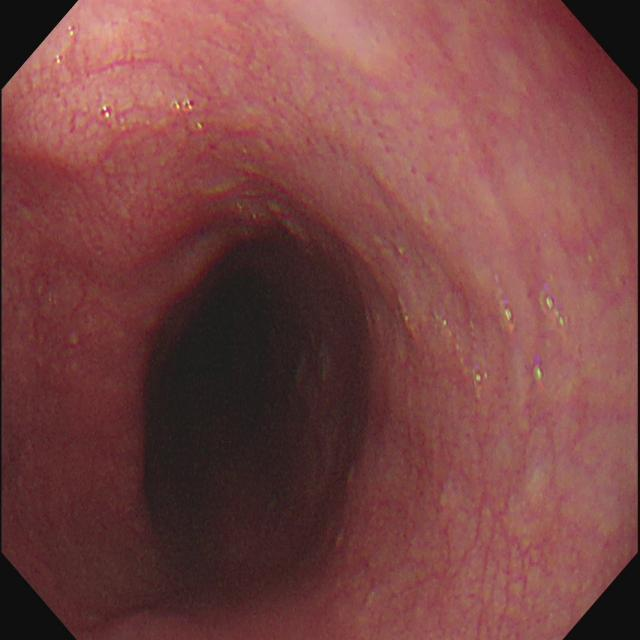E: (115, 183, 395, 632)
T: (170, 99, 206, 135), (542, 285, 569, 327), (471, 360, 491, 396), (502, 301, 524, 333), (97, 104, 123, 130)
